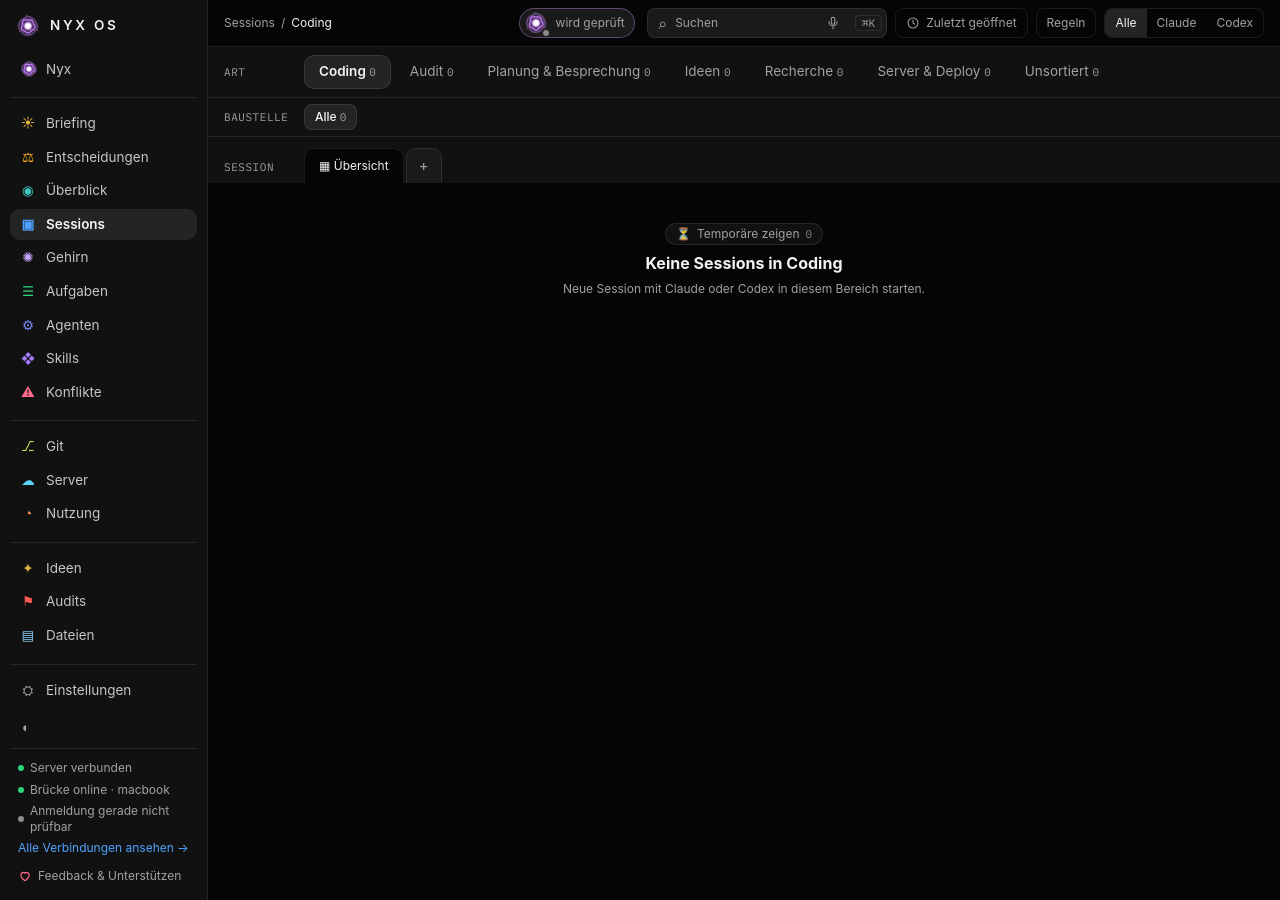
Test: Suche › zeigt Treffer im Suchfeld und springt zur Fundstelle
The image size is (1280, 900).
Type "Treffer" into the dropdown. click: (743,23)
box: [675,15,811,31]
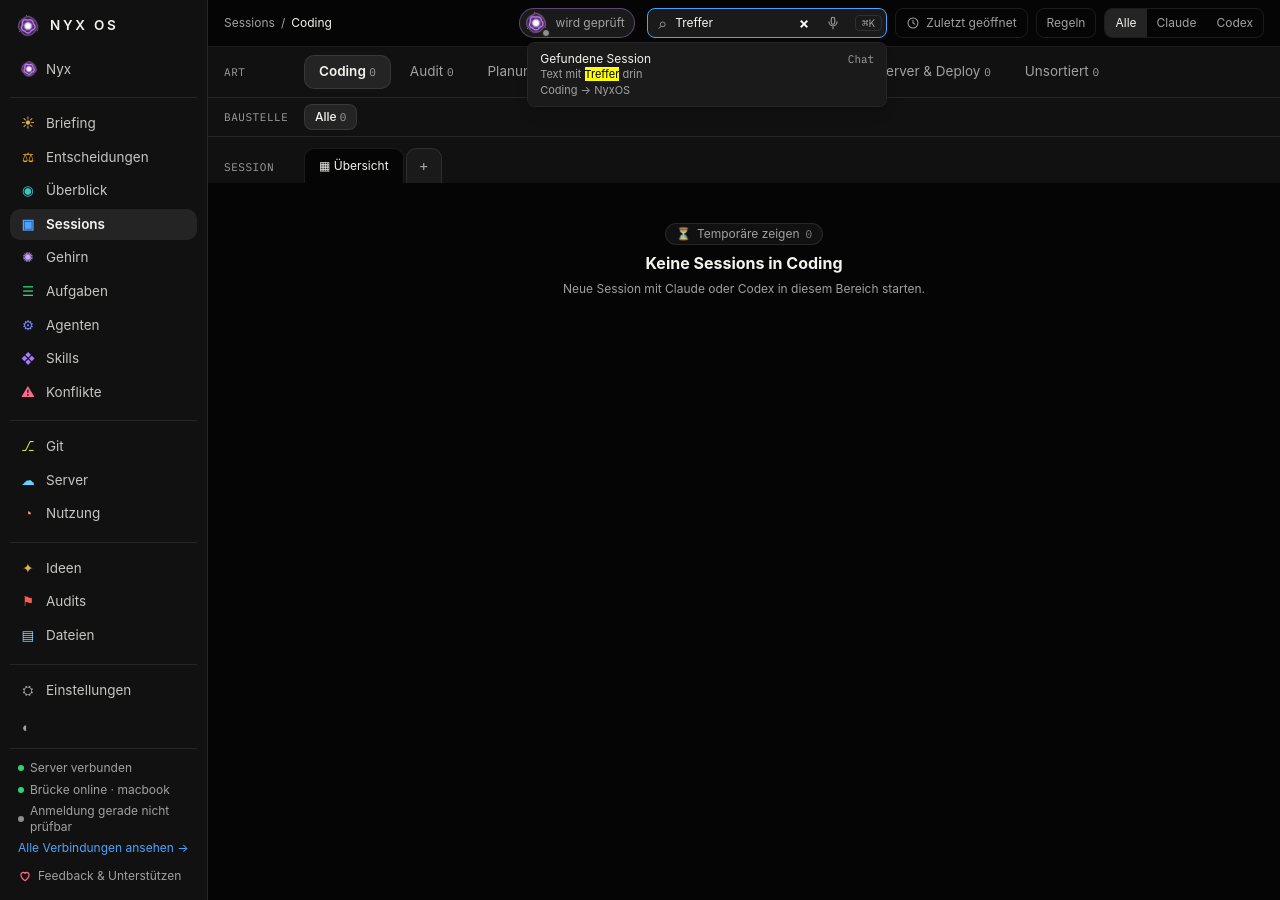
Expected: the text "Chat" is shown, [848,52,874,66]
Click the option "Gefundene Session Chat Text mit Treffer drin Coding → NyxOS". click: (596,58)
box: [528,43,886,106]
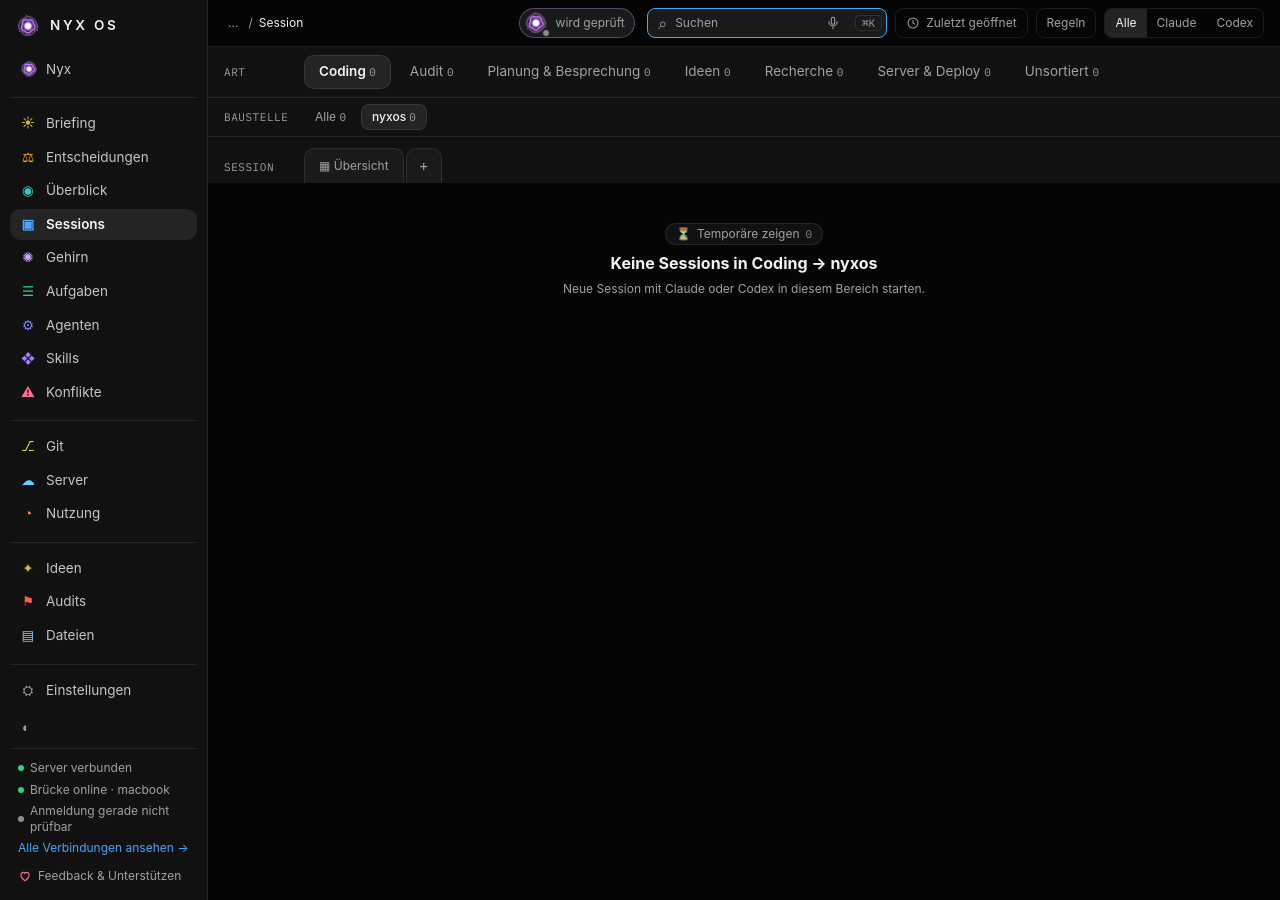
Expected: the text "Session" is shown, [259,15,303,31]
